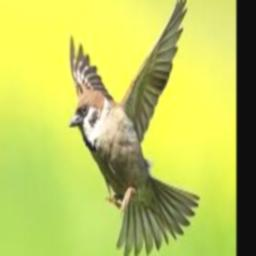Sparrow: (69, 0, 200, 256)
